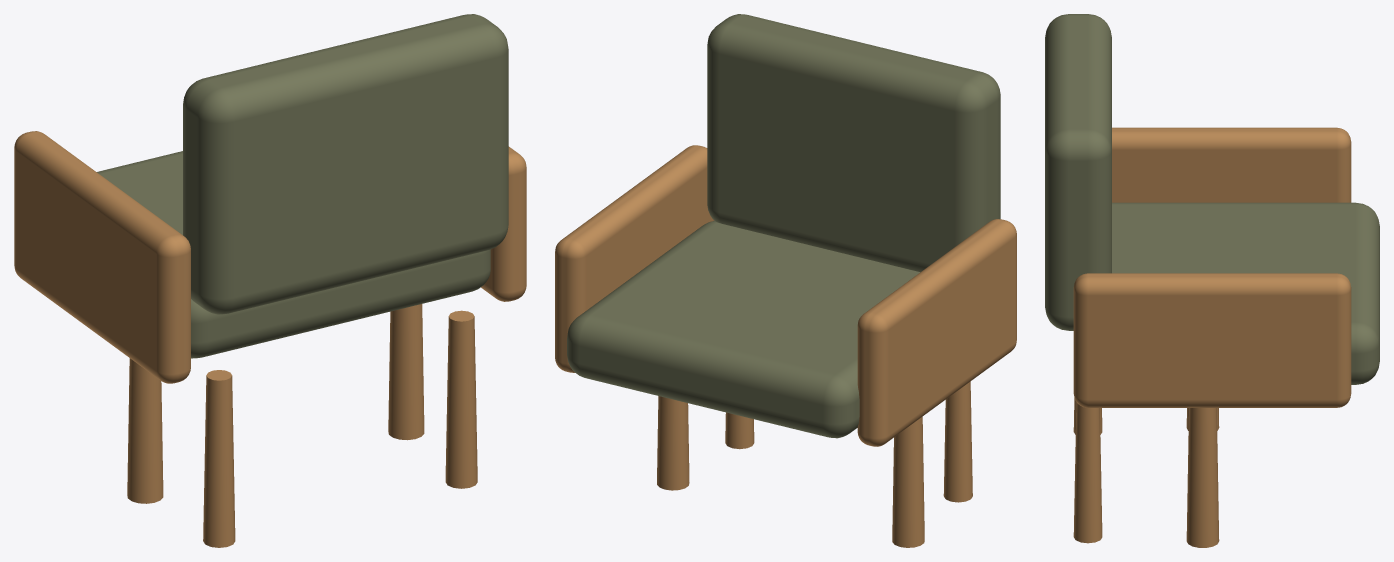
The model's file is lounge-chair.glb.
3 views of the same model, side by side, from view 1: azimuth 30°, elevation 25°; view 2: azimuth 150°, elevation 25°; view 3: azimuth 270°, elevation 25° (orthographic). The views are drawn at different scales.
Parts seen in each view (by area): view 1: upholstery_back, frame_arm_l, upholstery_seat, frame_leg_bl, frame_leg_br, frame_leg_l, frame_leg_r, frame_arm_r; view 2: upholstery_back, upholstery_seat, frame_arm_l, frame_arm_r, frame_leg_l, frame_leg_bl, frame_leg_r, frame_leg_br; view 3: frame_arm_r, upholstery_seat, upholstery_back, frame_arm_l, frame_leg_r, frame_leg_br.
Part boxes in pixels (x1,y1,x2,y2): upholstery_back: [183, 14, 508, 314]; frame_arm_l: [14, 131, 190, 383]; upholstery_seat: [97, 151, 490, 358]; frame_leg_bl: [203, 370, 235, 547]; frame_leg_br: [445, 310, 477, 488]; frame_leg_l: [127, 358, 163, 503]; frame_leg_r: [388, 304, 424, 440]; frame_arm_r: [481, 146, 526, 301]; upholstery_back: [707, 14, 1000, 272]; upholstery_seat: [567, 221, 919, 438]; frame_arm_l: [857, 219, 1016, 446]; frame_arm_r: [555, 145, 714, 372]; frame_leg_l: [892, 416, 924, 547]; frame_leg_bl: [943, 381, 972, 502]; frame_leg_r: [657, 396, 689, 490]; frame_leg_br: [725, 412, 754, 449]; frame_arm_r: [1073, 273, 1351, 407]; upholstery_seat: [1112, 202, 1379, 384]; upholstery_back: [1045, 14, 1111, 330]; frame_arm_l: [1112, 127, 1351, 202]; frame_leg_r: [1186, 408, 1219, 547]; frame_leg_br: [1073, 402, 1102, 543].
Bounding box in the file's own units: 0.7318 × 0.88 × 0.6484.
